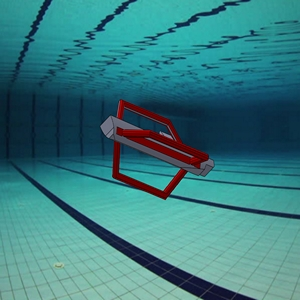submarine: (84, 92, 228, 215)
